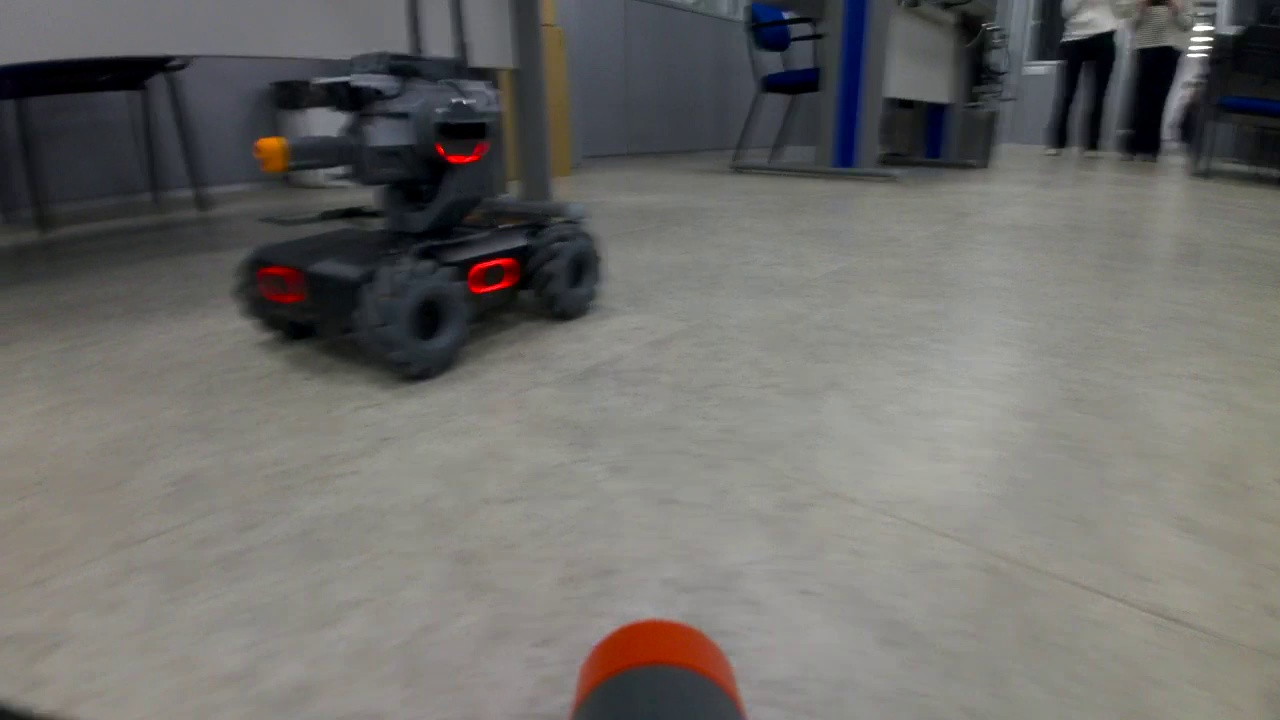robot: (230, 50, 602, 388)
